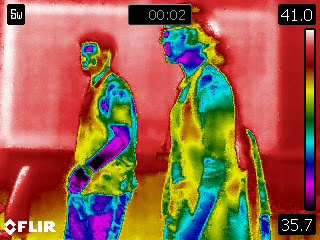human: (157, 24, 253, 240), (63, 30, 140, 240)
